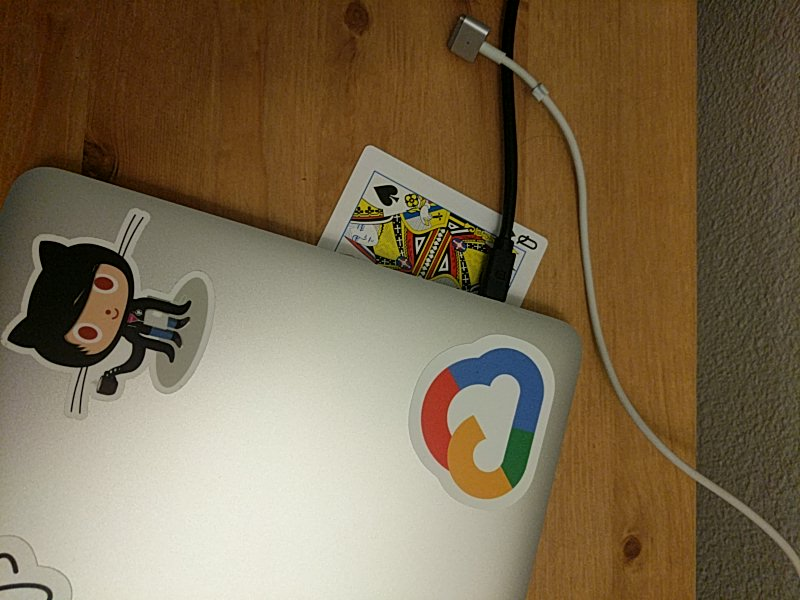Spades: (315, 144, 549, 311)
